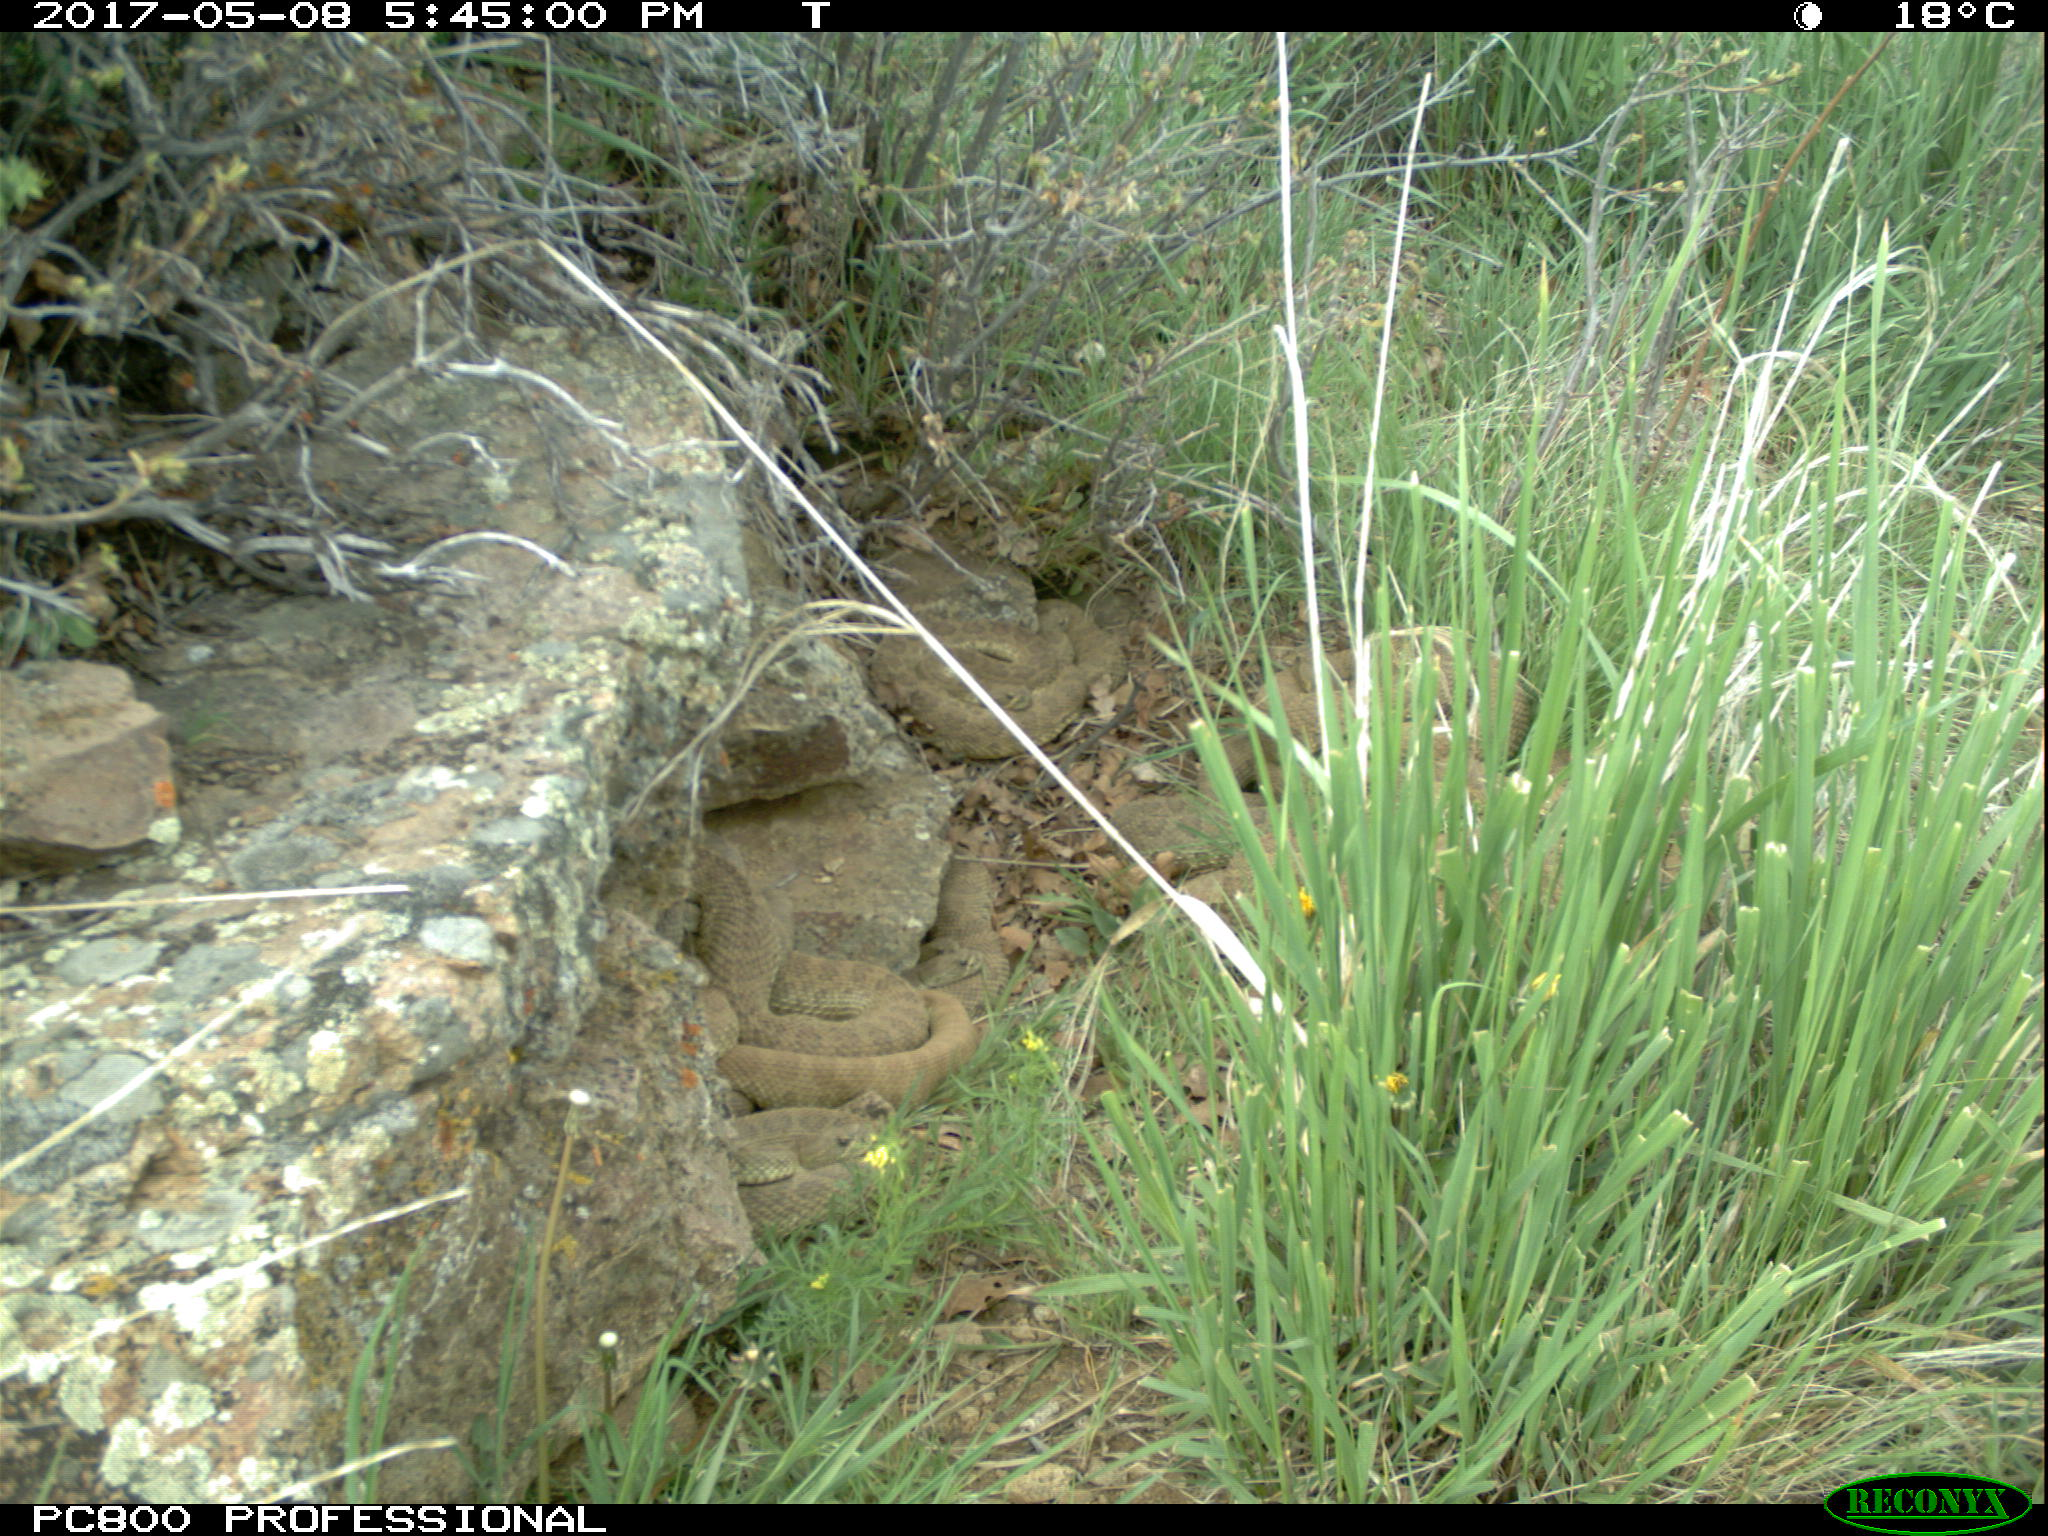snake: (685, 870, 1001, 1091), (1247, 621, 1530, 787), (880, 599, 1130, 762), (721, 1104, 913, 1238), (1101, 786, 1309, 908)
